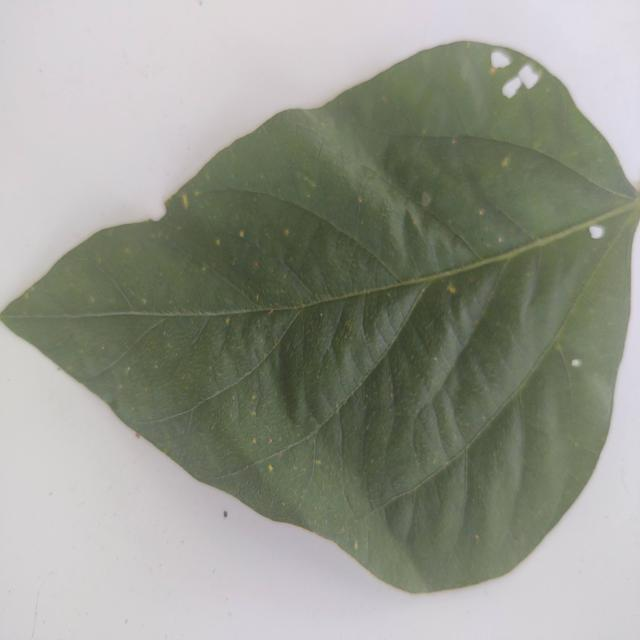downey_mildew: (440, 271, 468, 305)
